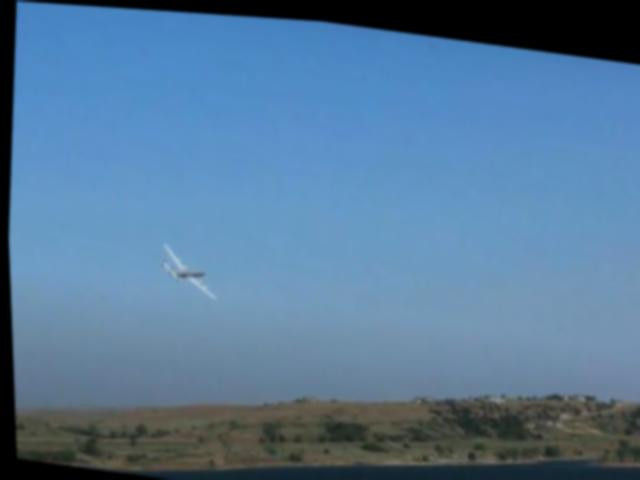iha: (155, 235, 219, 297)
